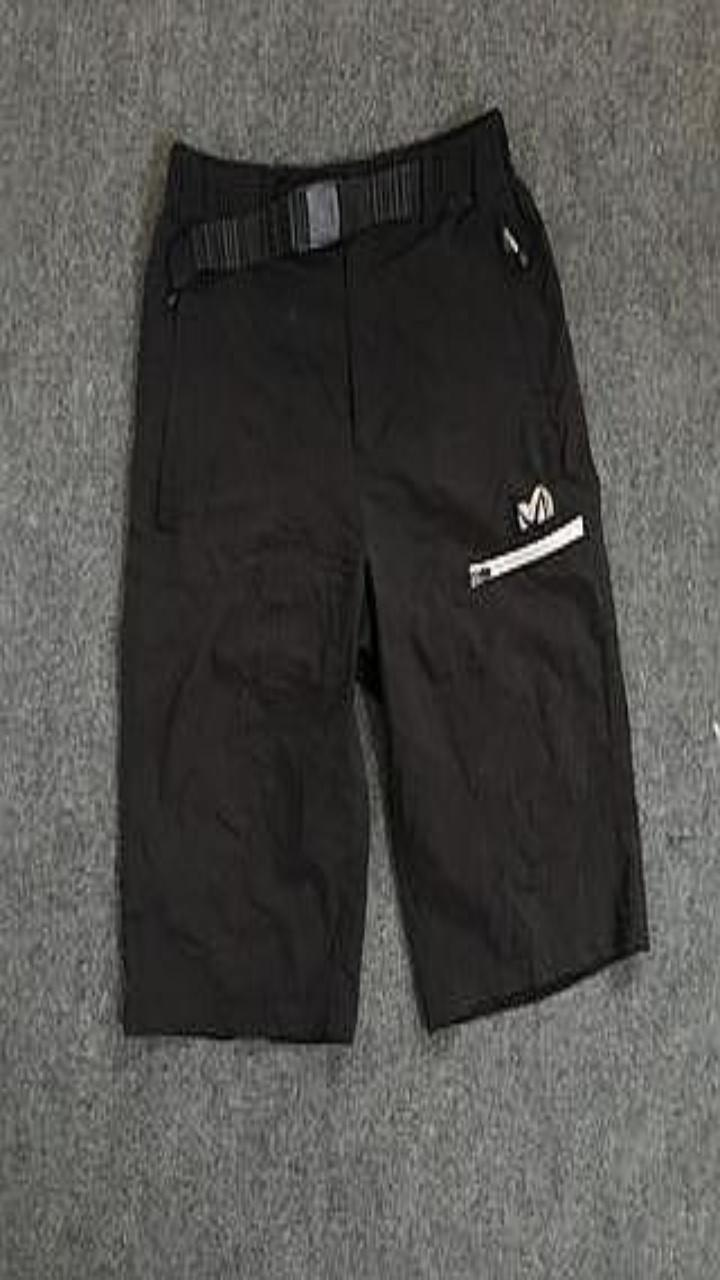Shorts: (119, 110, 648, 1041)
